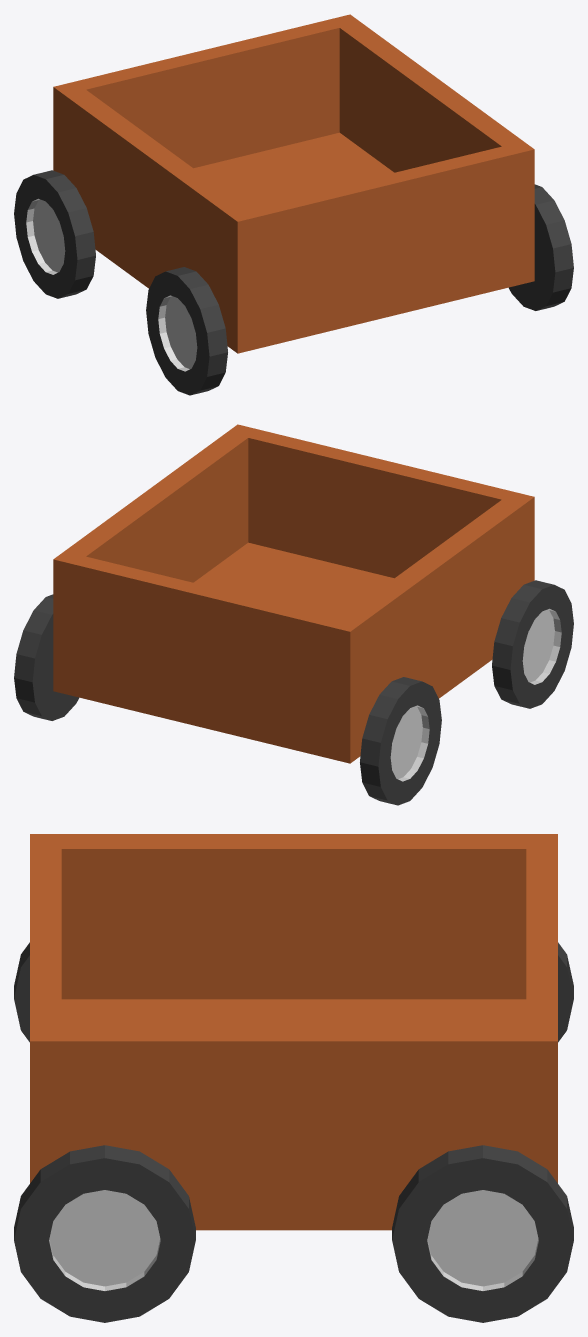
The model's file is TempCart.fbx.
The picture shows the model from 3 angles, top to bottom: view 1: azimuth 30°, elevation 25°; view 2: azimuth 150°, elevation 25°; view 3: azimuth 270°, elevation 25°; orthographic projection. The views are drawn at different scales.
Parts seen in each view (by area): view 1: Mesh; view 2: Mesh; view 3: Mesh.
Boxes of the visible parts, x1,y1,x2,y2 form: Mesh: (14, 14, 573, 395); Mesh: (14, 424, 573, 805); Mesh: (14, 834, 573, 1322).
Bounding box in the file's own units: 2.67 × 1.26 × 2.48.
